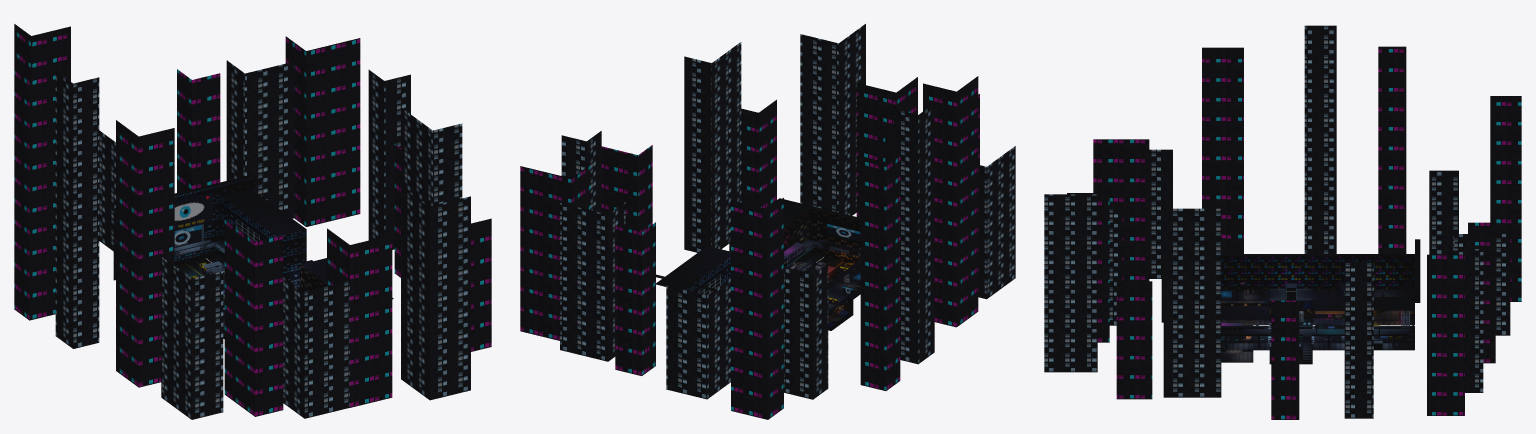
Rendered from downtown.glb.
The picture shows the model from 3 angles, left to right: view 1: azimuth 30°, elevation 25°; view 2: azimuth 150°, elevation 25°; view 3: azimuth 270°, elevation 25°; orthographic projection. The views are drawn at different scales.
Parts seen in each view (by area): view 1: downtown_tower_lit2, downtown_tower_lit, downtown_facade_feed, downtown_roof, downtown_eye_ad, downtown_billboard_feed; view 2: downtown_tower_lit, downtown_tower_lit2, downtown_roof, downtown_facade_apts, downtown_facade_feed, downtown_rail; view 3: downtown_tower_lit, downtown_tower_lit2, downtown_facade_neon, downtown_roof, downtown_sidewalk, downtown_plate, downtown_road, downtown_metal, downtown_rail.
Part boxes in pixels (<box>): downtown_tower_lit2: <box>14,24,491,416</box>; downtown_tower_lit: <box>55,60,470,419</box>; downtown_facade_feed: <box>113,176,306,285</box>; downtown_roof: <box>111,174,393,338</box>; downtown_eye_ad: <box>174,192,224,299</box>; downtown_billboard_feed: <box>174,225,201,247</box>; downtown_tower_lit: <box>560,24,1015,399</box>; downtown_tower_lit2: <box>520,76,979,419</box>; downtown_roof: <box>656,198,860,316</box>; downtown_facade_apts: <box>729,200,860,268</box>; downtown_facade_feed: <box>685,257,730,293</box>; downtown_rail: <box>798,239,860,312</box>; downtown_tower_lit: <box>1044,25,1510,418</box>; downtown_tower_lit2: <box>1067,46,1521,419</box>; downtown_facade_neon: <box>1221,256,1414,304</box>; downtown_roof: <box>1161,239,1420,341</box>; downtown_sidewalk: <box>1221,318,1414,350</box>; downtown_plate: <box>1221,291,1409,361</box>; downtown_road: <box>1253,318,1414,364</box>; downtown_metal: <box>1236,283,1413,349</box>; downtown_rail: <box>1221,288,1409,328</box>.
Bounding box in the file's own units: 144 × 105 × 177.
Materials: 106 (106 with a texture image).
